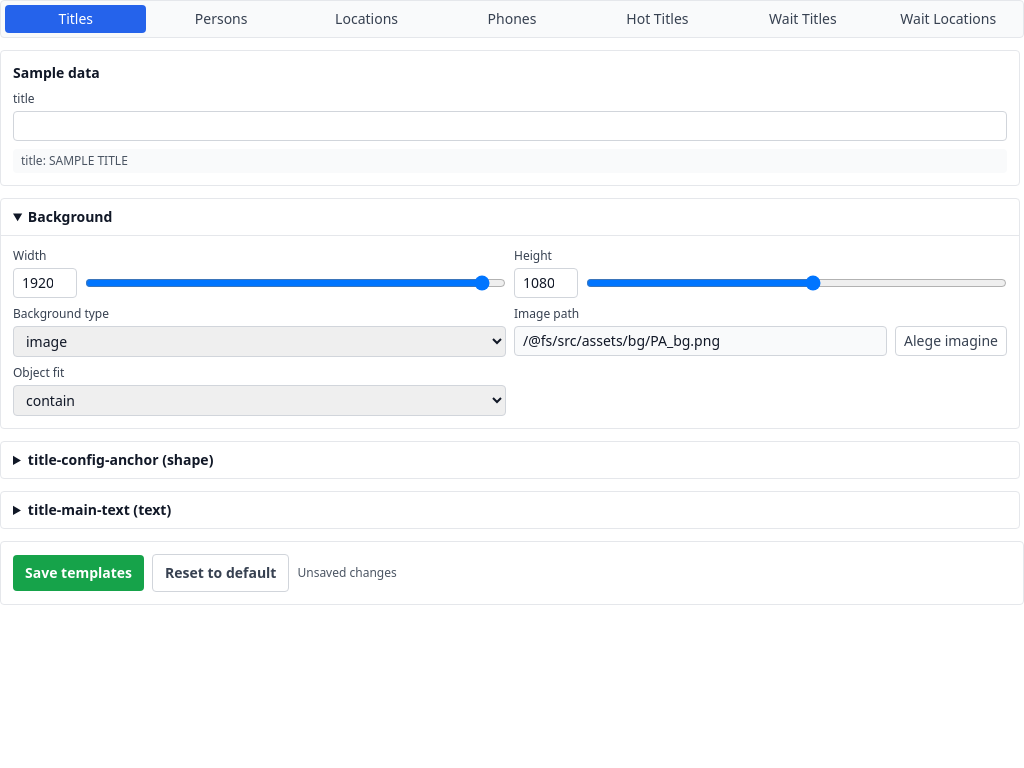
Test: TemplateEditorPanel › shows a warning when local save succeeds but dev default update fails
Click the button "Save templates" at (78, 573), box [13,555,144,591]
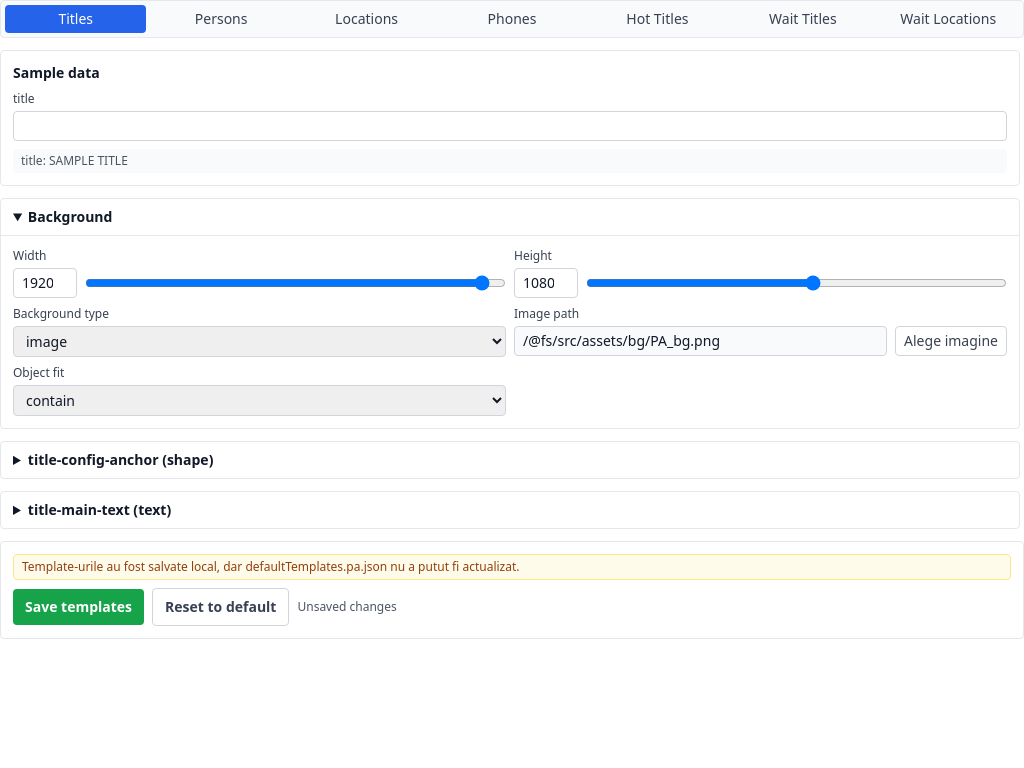
Check: the text "Template-urile au fost salvate local, dar defaultTemplates.pa.json nu a putut fi actualizat." is shown, box [22,558,520,575]
